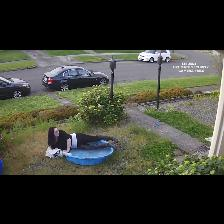person: (48, 127, 118, 152)
